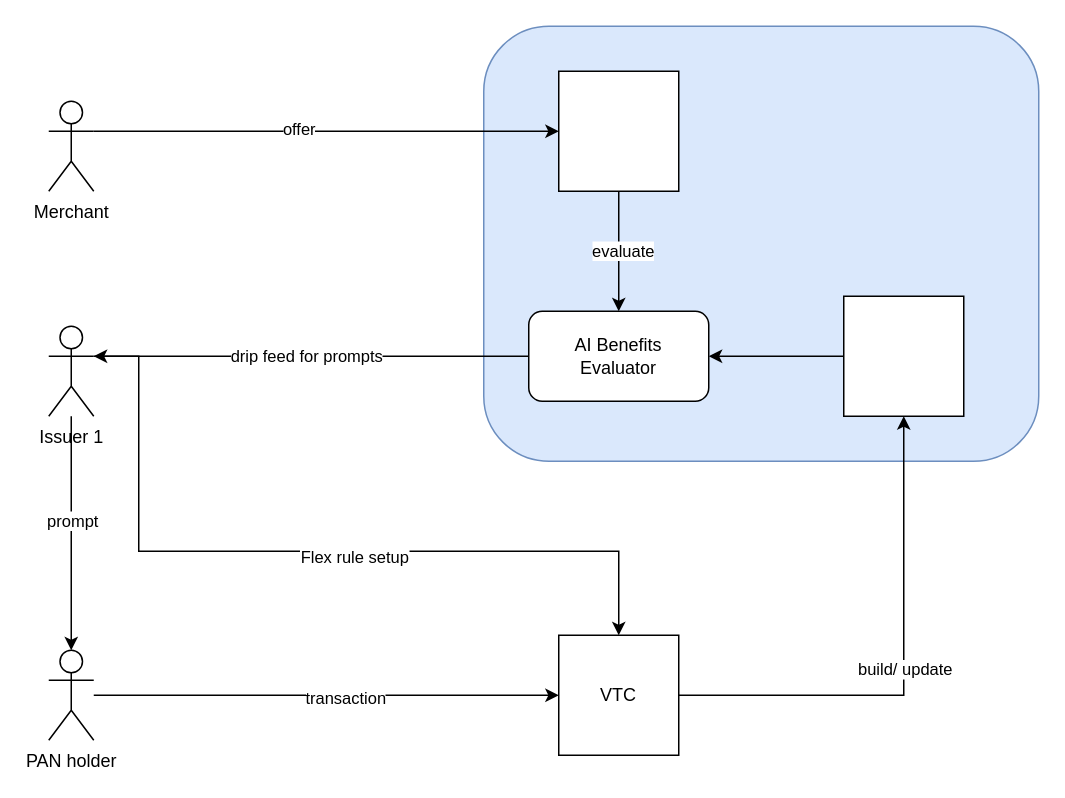
This 1065x798 diagram has some shape labels left out. Each missing label, with the centre of its shape:
Offers DB: (x=618, y=130)
Persona: (x=903, y=355)
